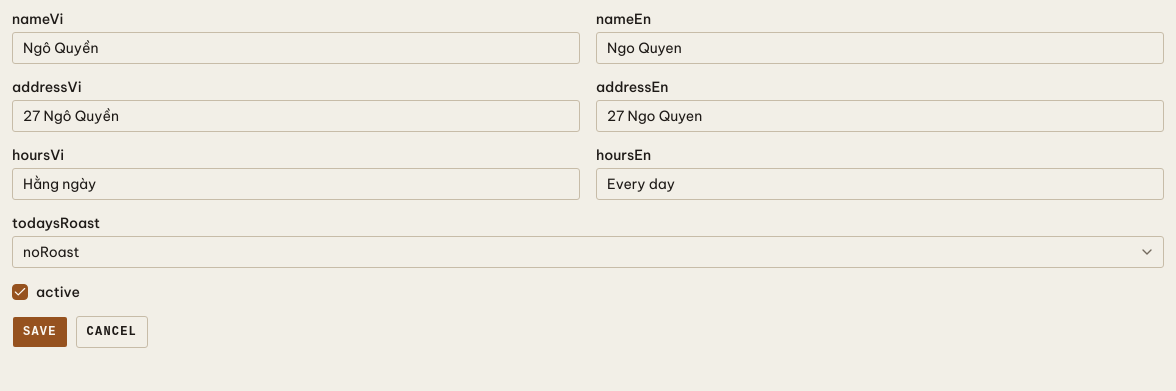
Test: SiteEditor › shows a validation message and does not submit an empty name
Clear the field labelled "nameEn": (880,48) [596, 32, 1164, 64]
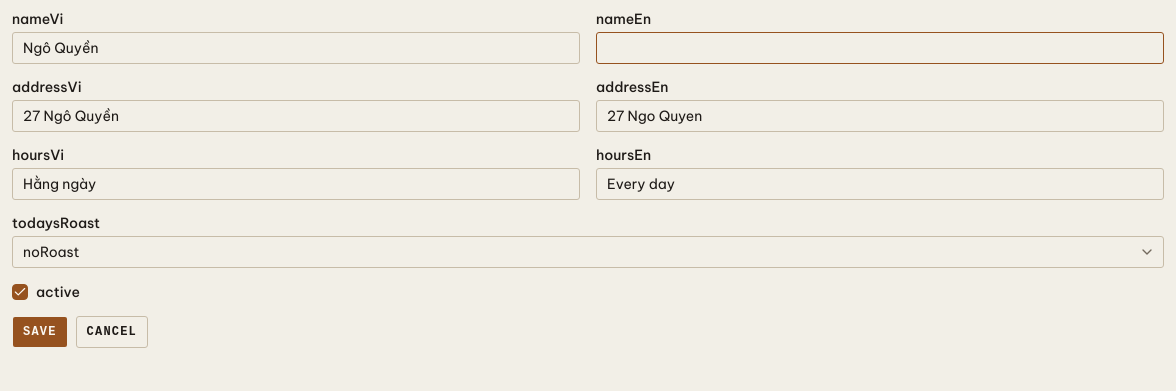
Click the button "save": (40,332) [12, 316, 68, 348]
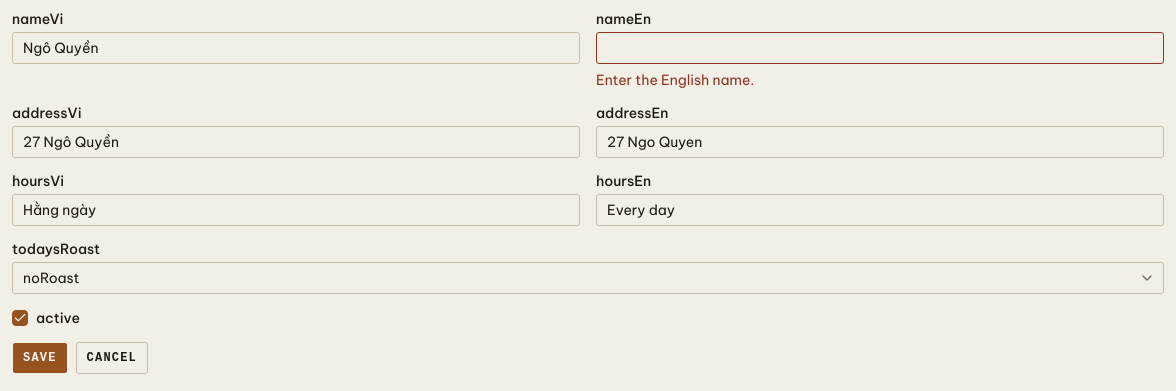
Check: the text "Enter the English name." is shown, box [596, 71, 754, 89]
